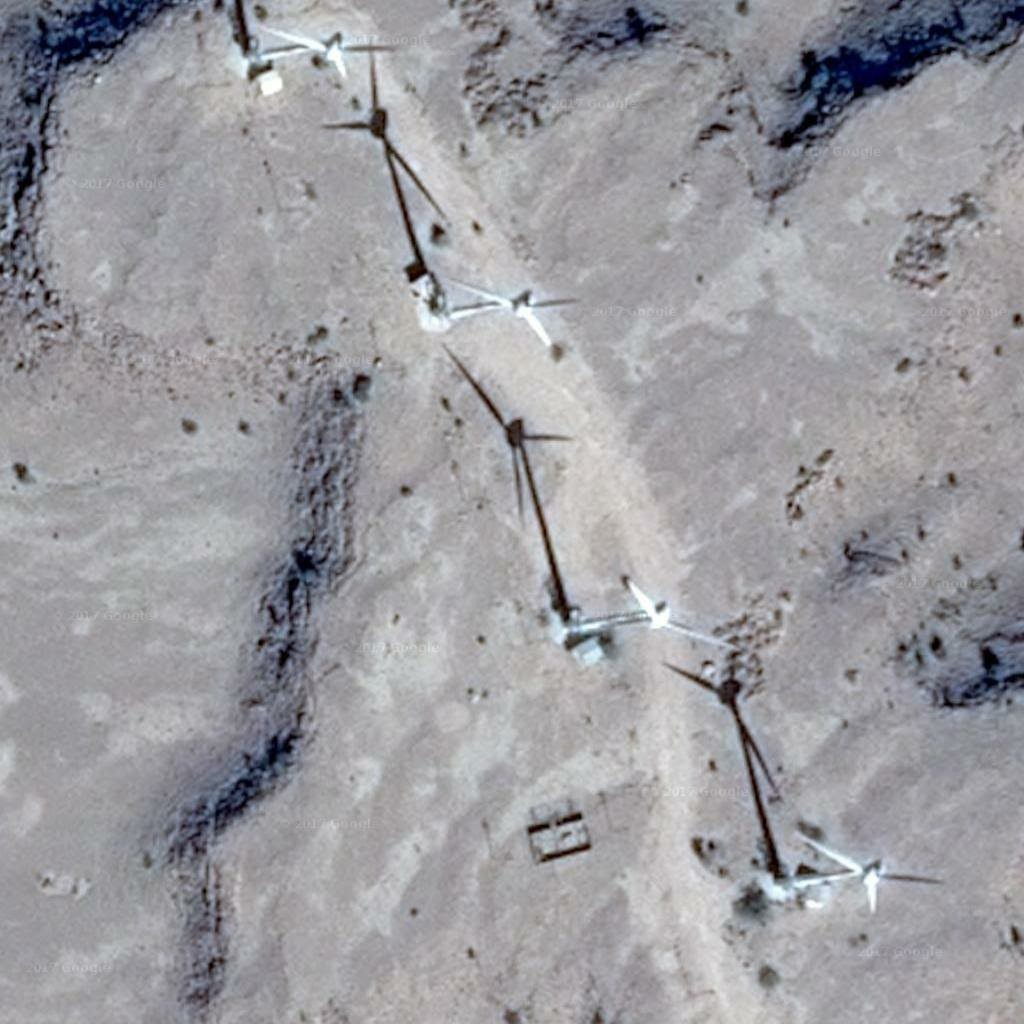Windmill: (312, 47, 456, 310)
